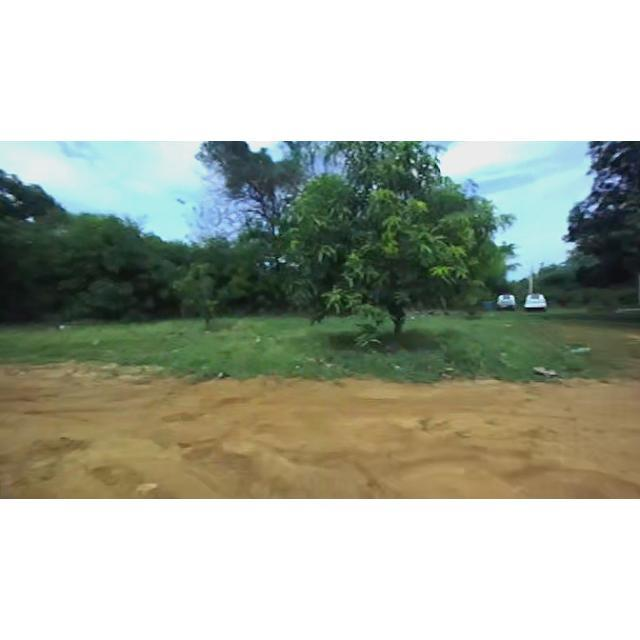tree: (273, 144, 519, 350), (181, 142, 341, 340), (0, 198, 166, 330), (560, 142, 640, 328), (152, 254, 224, 334)
